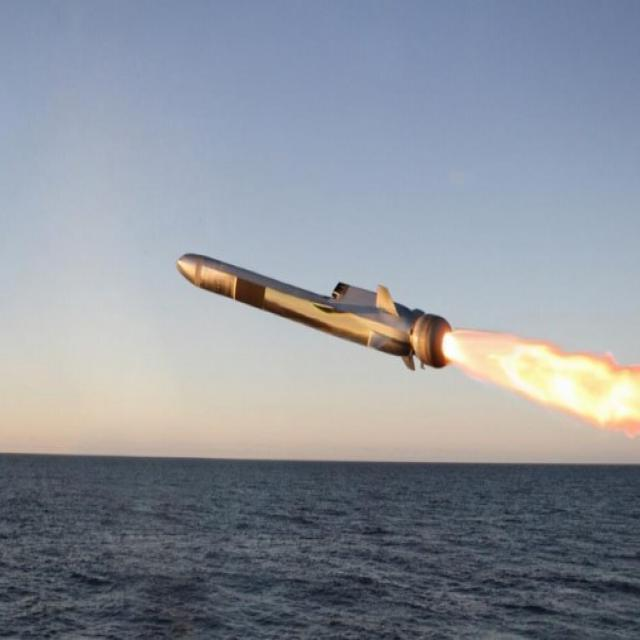missile: (179, 235, 448, 379)
